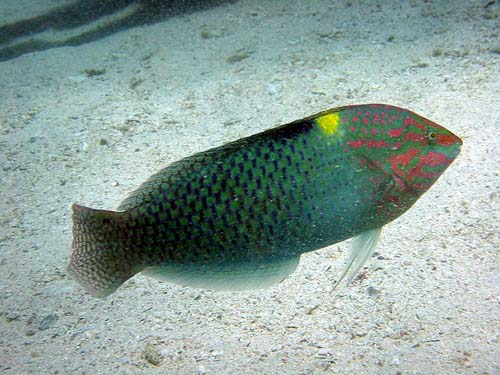fish: (65, 103, 463, 302)
